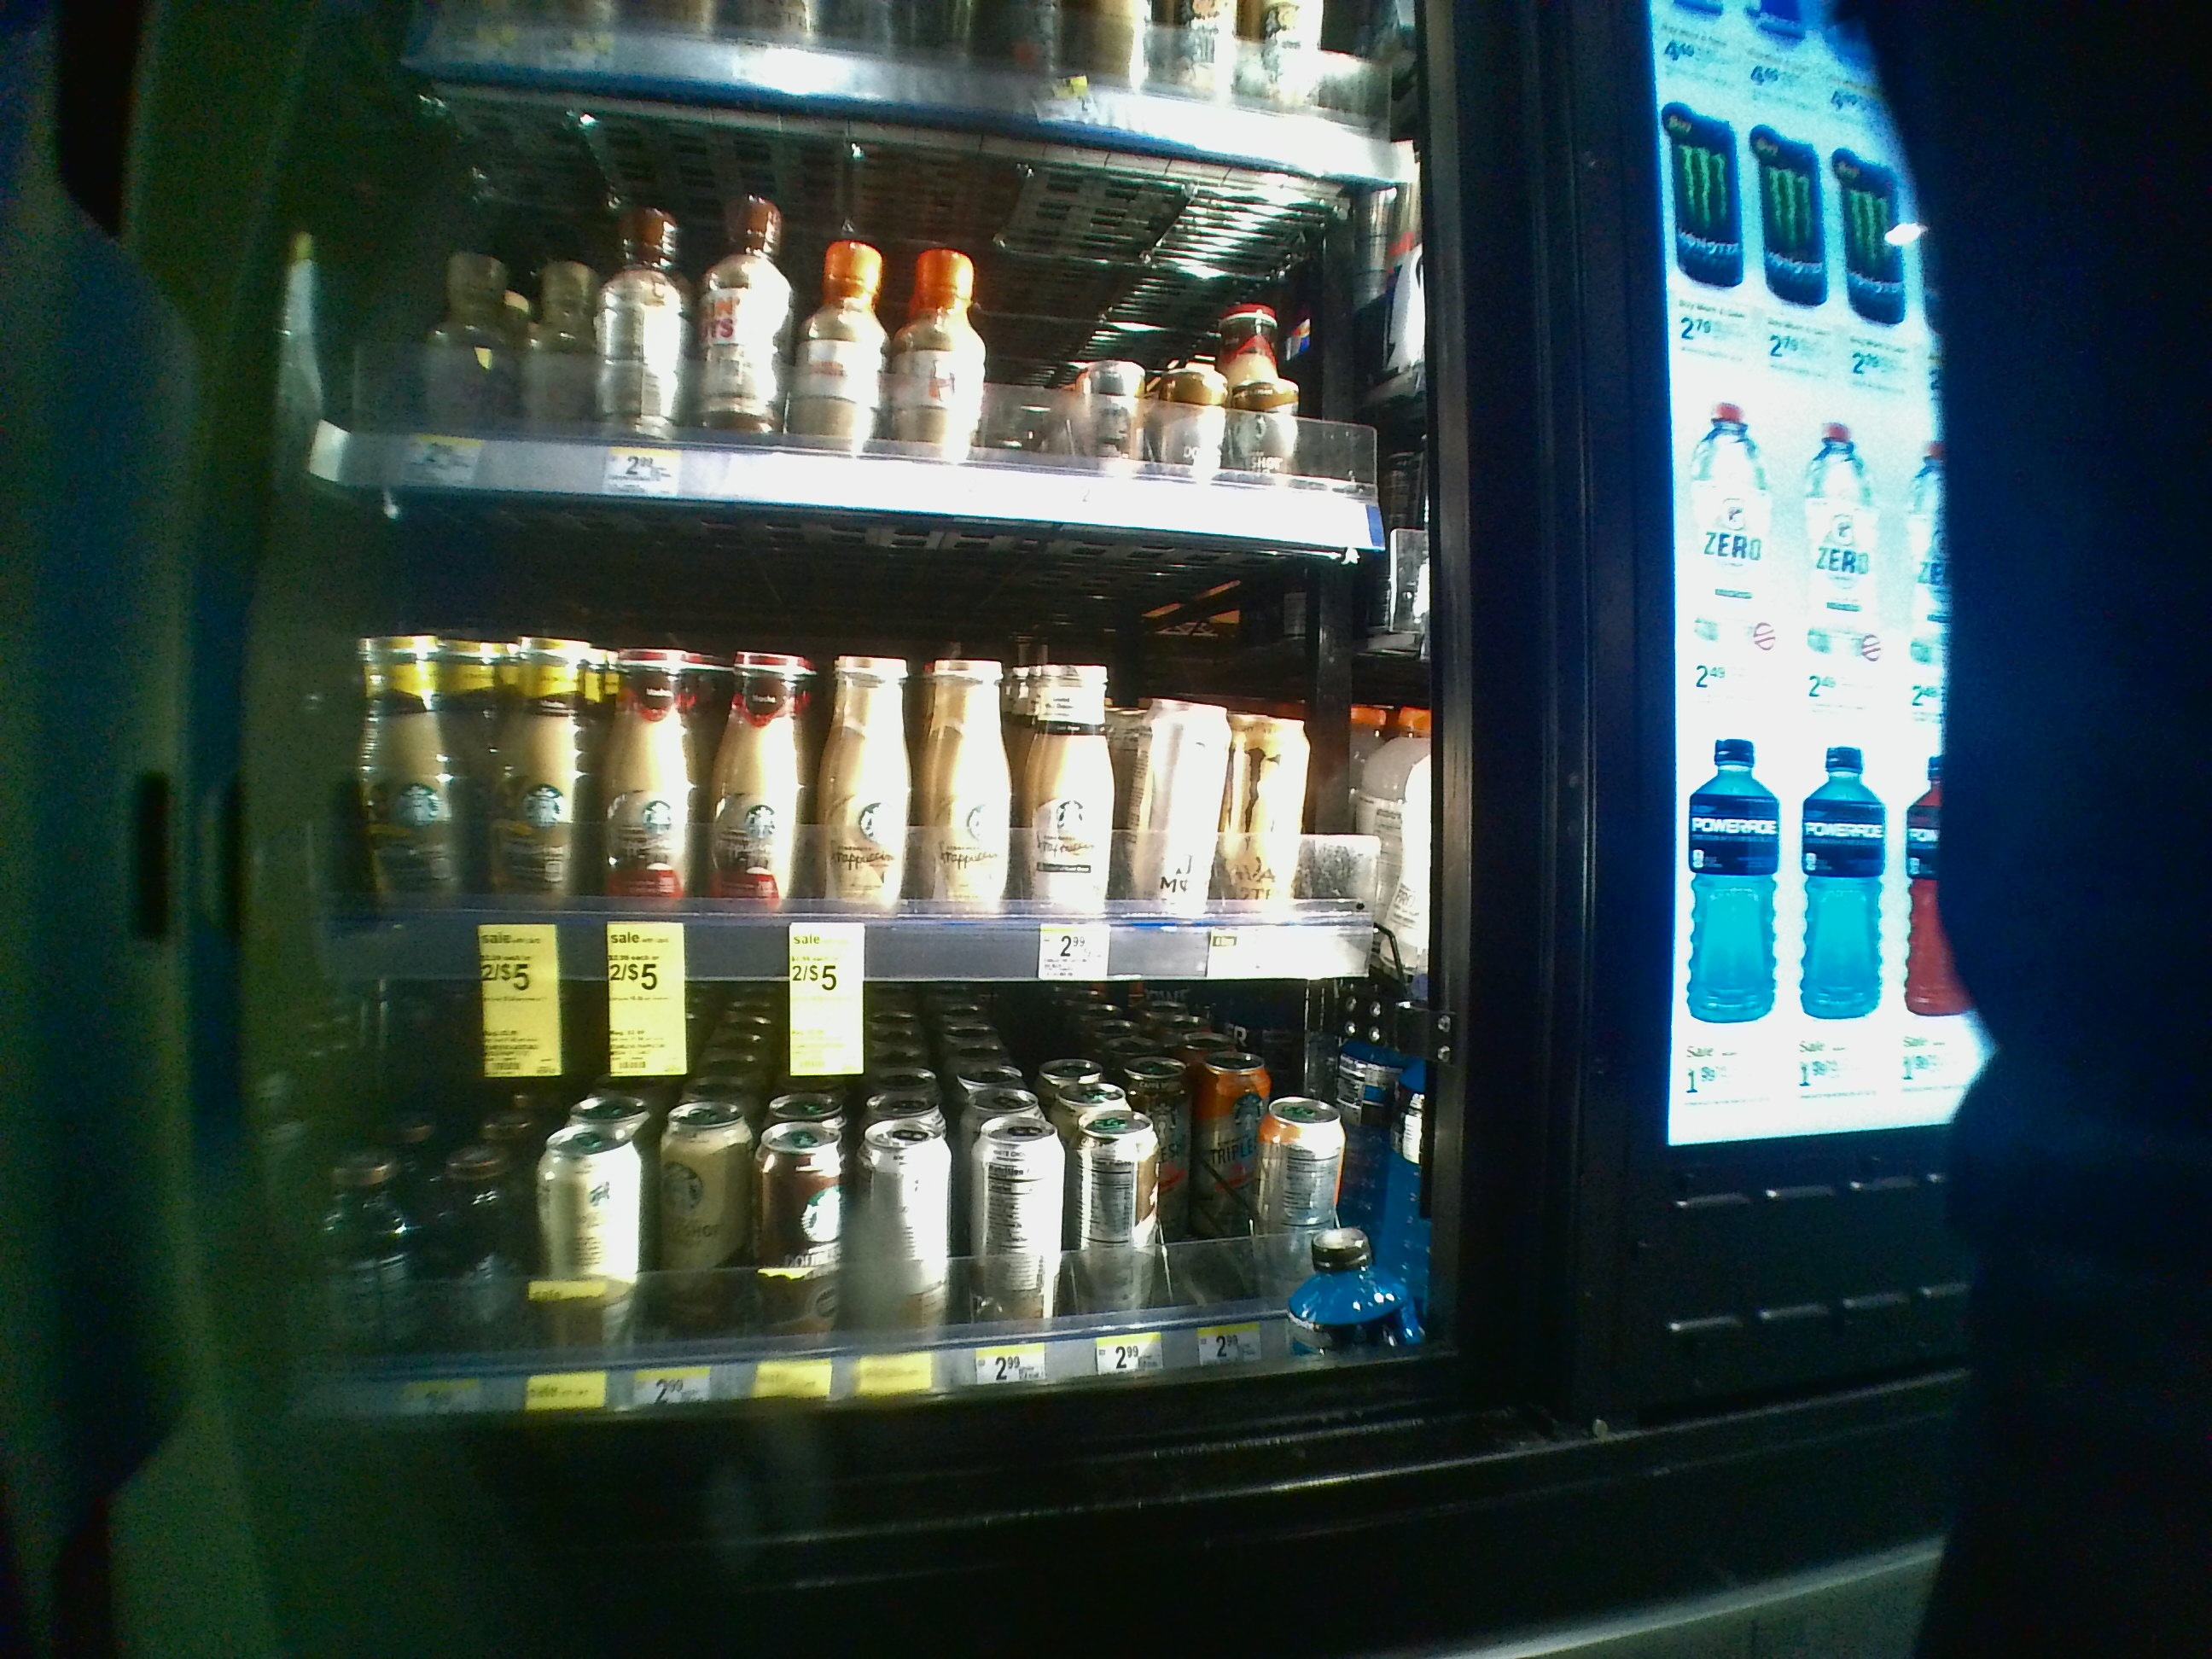shelf: (312, 502, 1446, 979), (298, 974, 1449, 1424)
